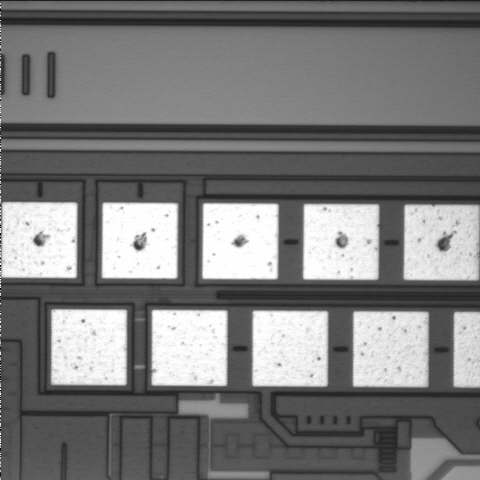pad: (2, 202, 77, 278), (102, 203, 178, 278), (152, 310, 227, 386), (203, 204, 278, 279), (303, 204, 378, 279), (52, 310, 127, 385), (253, 311, 328, 386), (353, 312, 428, 387), (404, 205, 478, 280)
